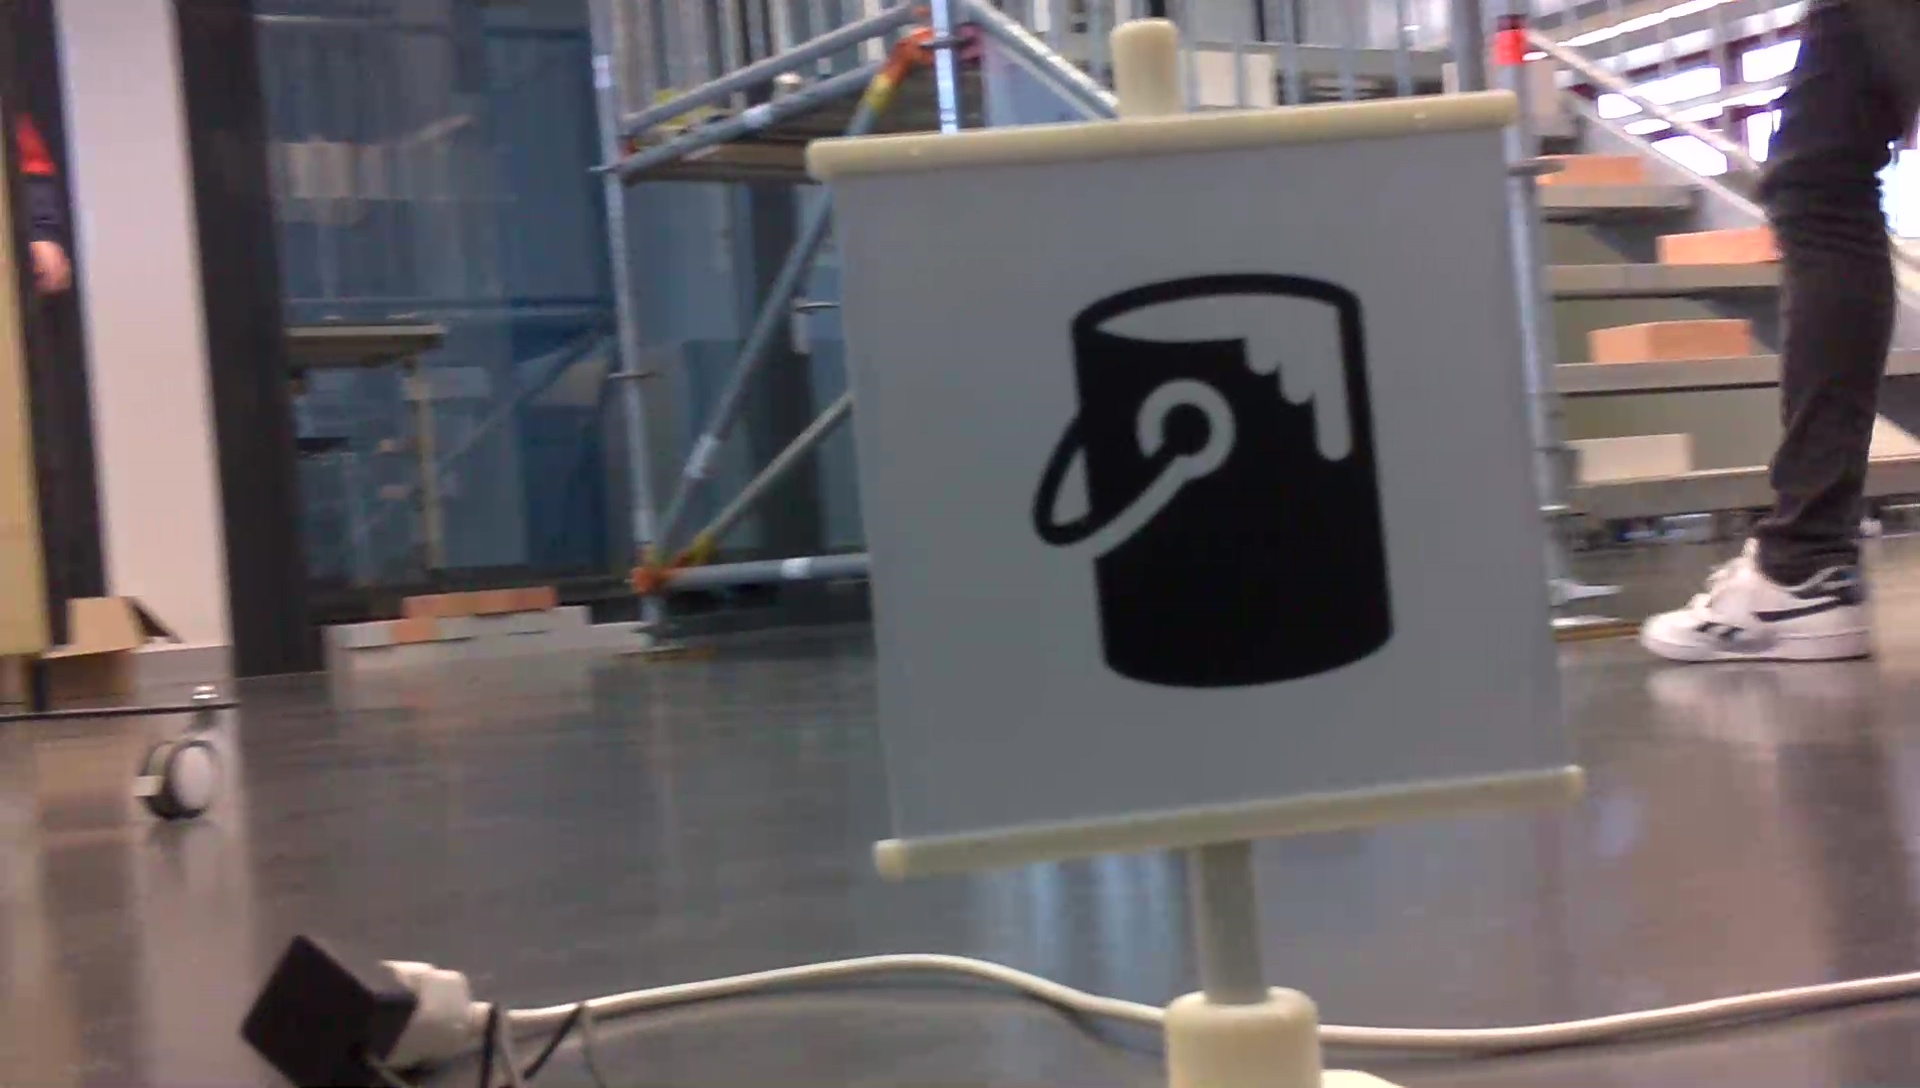brick: (1585, 320, 1749, 360), (1569, 433, 1688, 481), (1660, 226, 1778, 260), (1548, 154, 1647, 182)
bucket: (1010, 258, 1407, 698)
